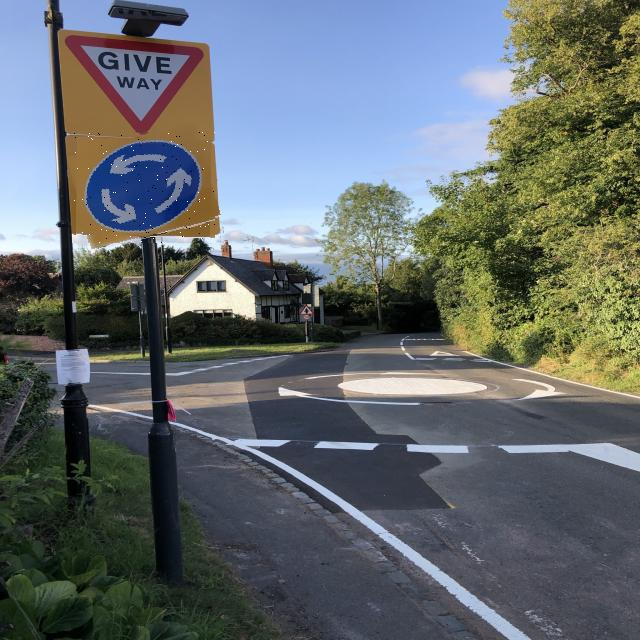roundabout: (72, 130, 216, 243)
